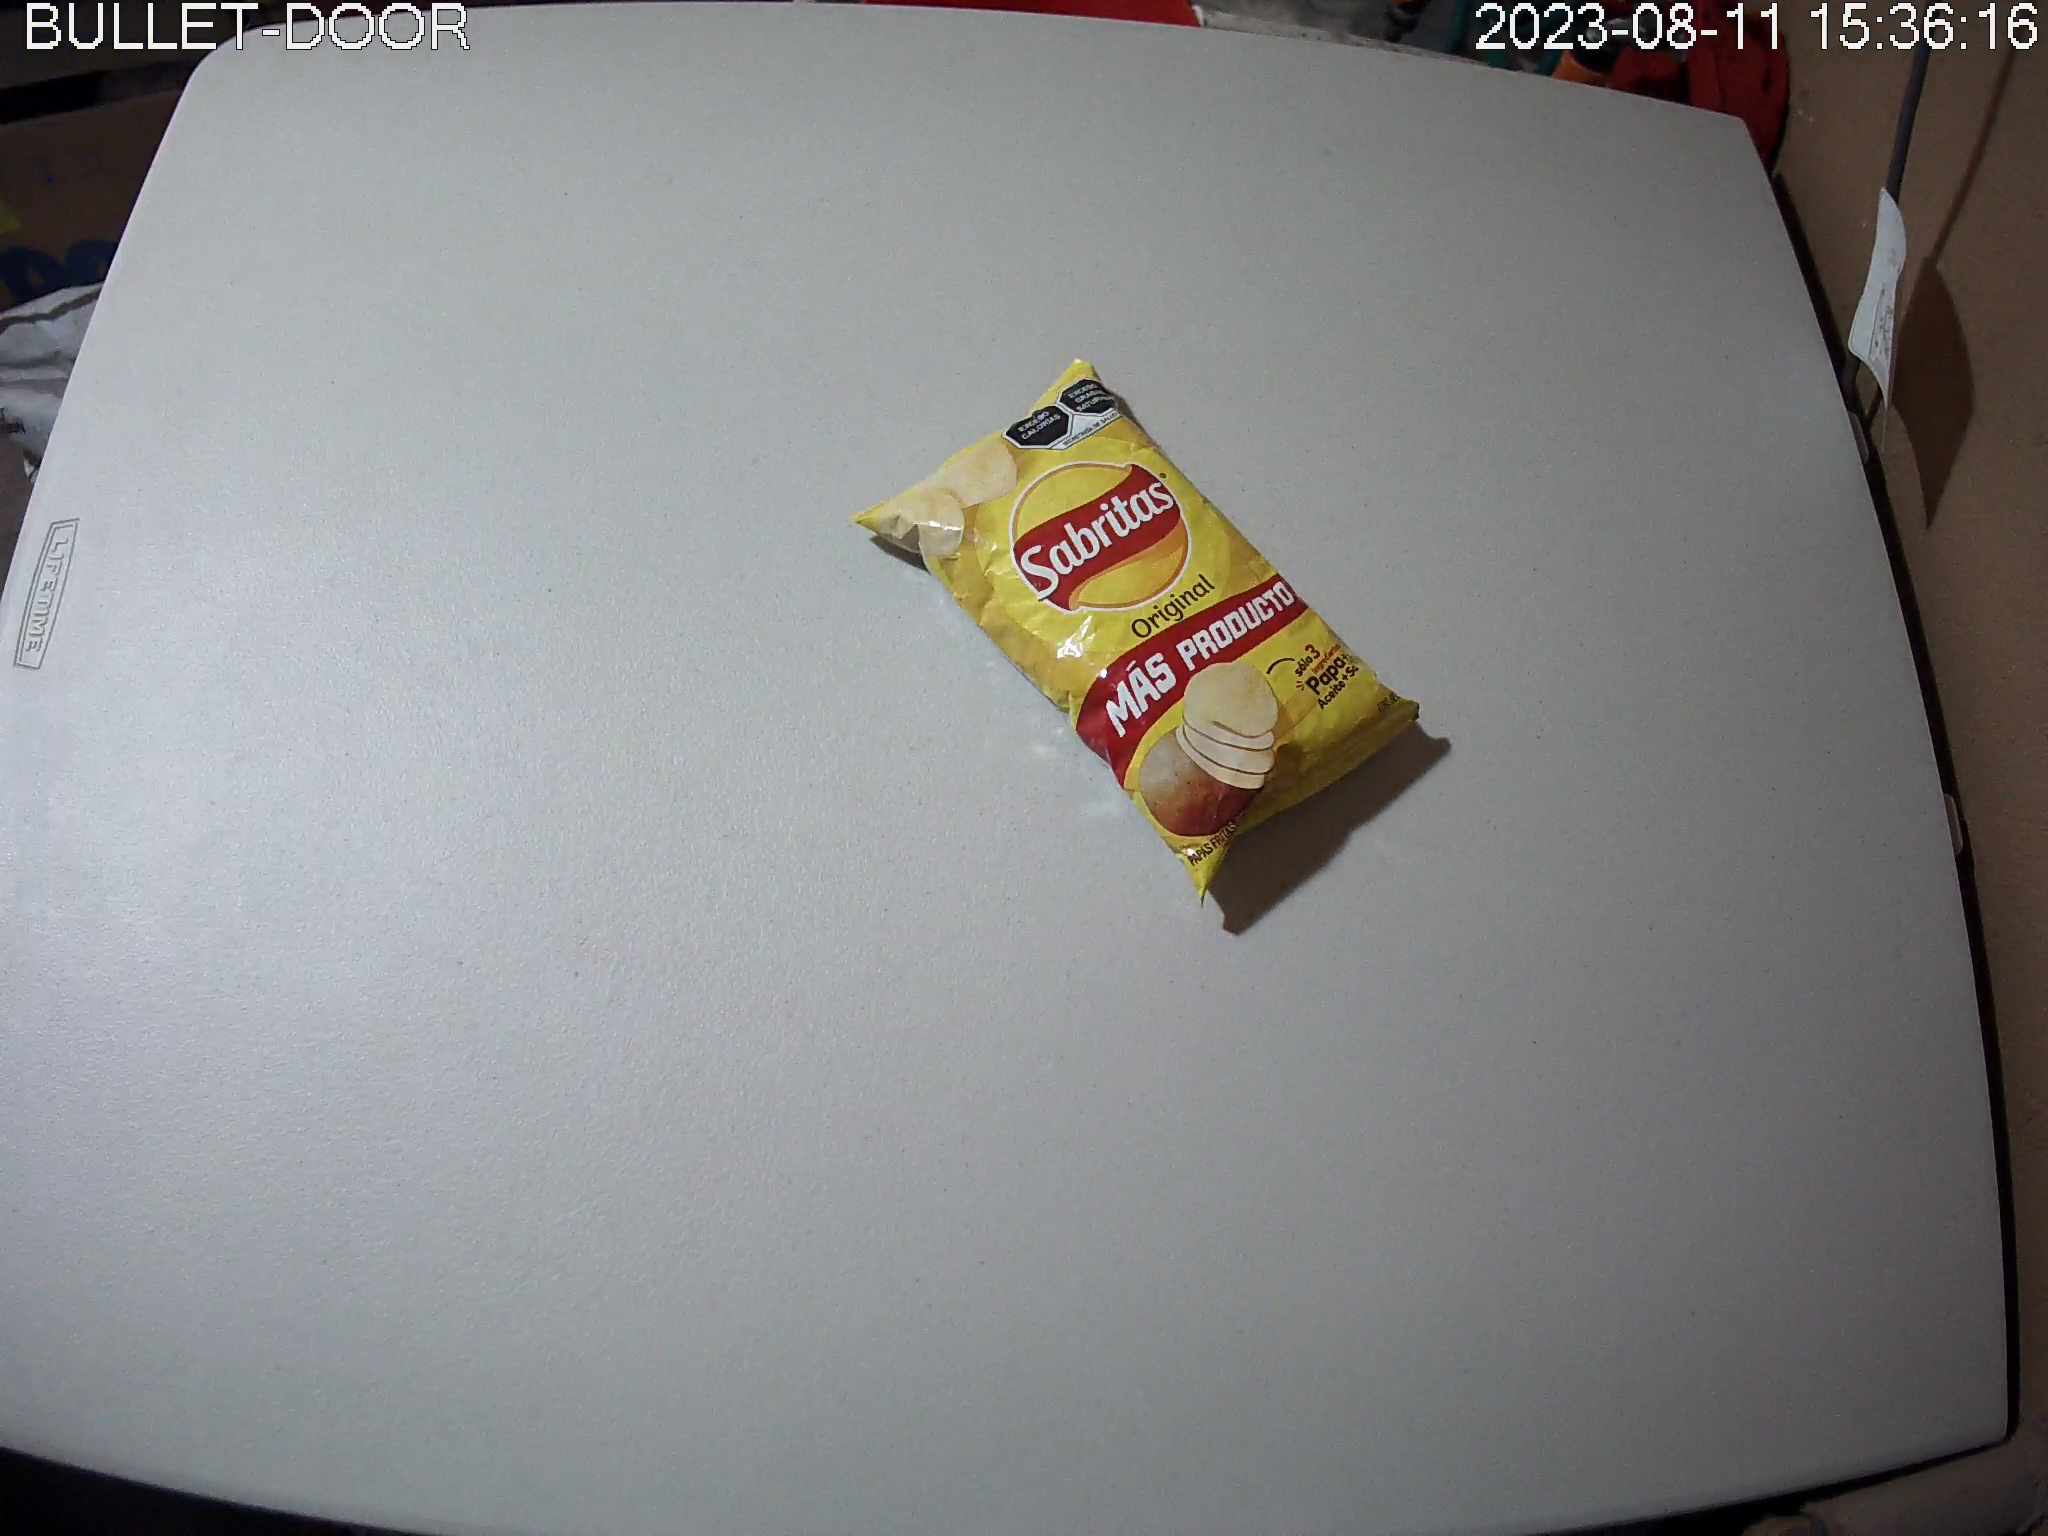Sabritas_45_F: (848, 355, 1424, 912)
